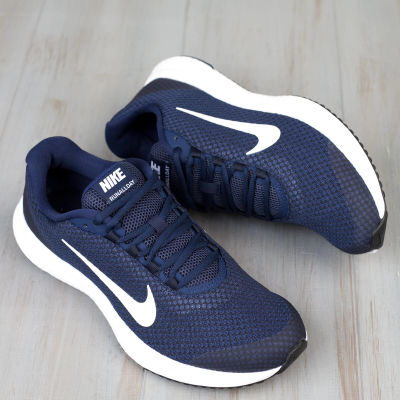nike: (60, 237, 159, 331), (174, 105, 282, 161)
